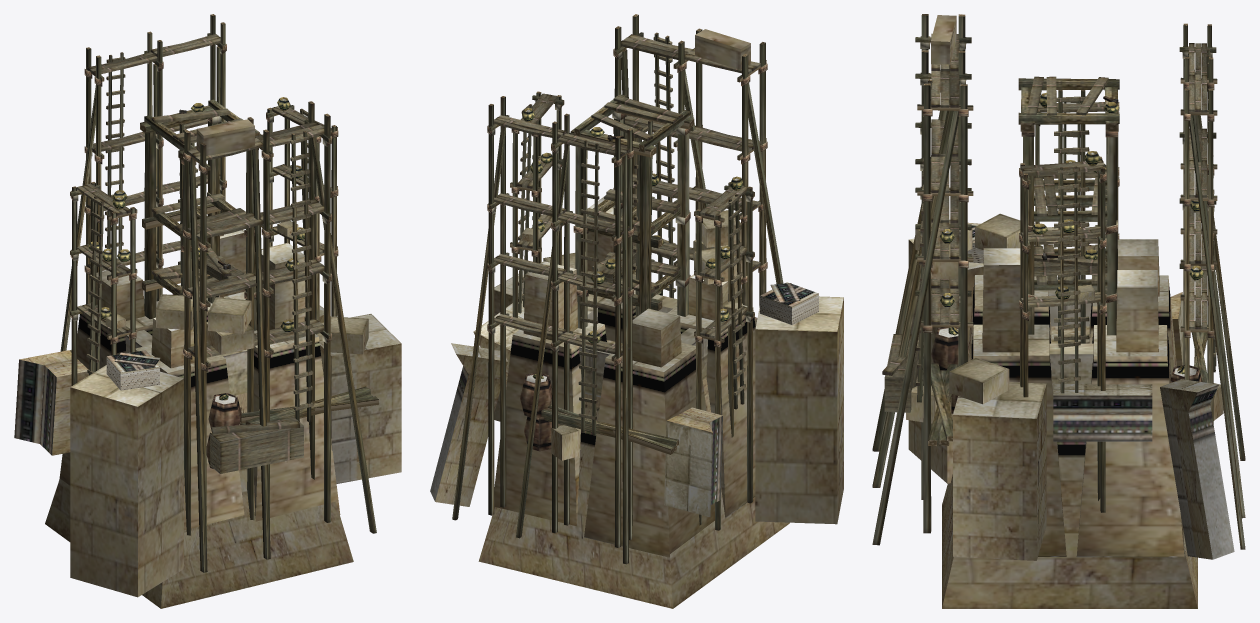
File: scaffold_up_cart_wall_tower.glb
3 views of the same model, side by side, from view 1: azimuth 30°, elevation 25°; view 2: azimuth 150°, elevation 25°; view 3: azimuth 270°, elevation 25° (orthographic). The views are drawn at different scales.
Parts seen in each view (by area): view 1: scaffold_up_cart_wall_tower_part0; view 2: scaffold_up_cart_wall_tower_part0; view 3: scaffold_up_cart_wall_tower_part0.
Boxes of the visible parts, bbox=[...] form: scaffold_up_cart_wall_tower_part0: bbox=[14, 14, 401, 608]; scaffold_up_cart_wall_tower_part0: bbox=[430, 14, 843, 608]; scaffold_up_cart_wall_tower_part0: bbox=[872, 14, 1245, 608].
Bounding box in the file's own units: 4.75 × 6.55 × 4.32.
1 material, 1 textured.
